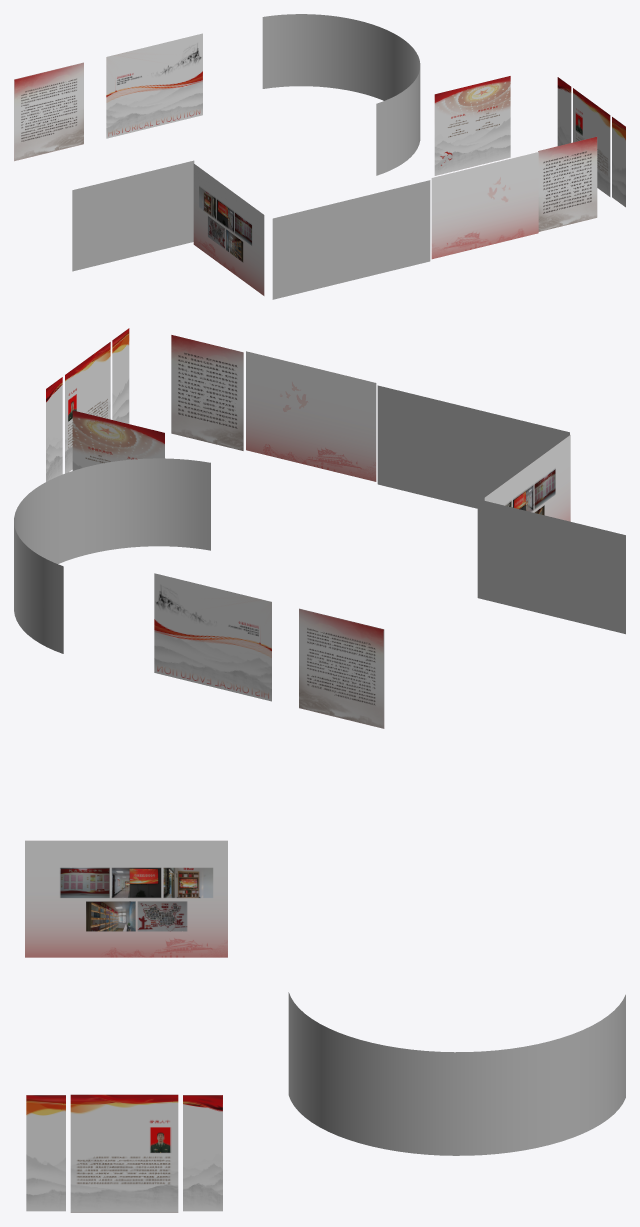
3 renders of one model, top to bottom at view 1: azimuth 30°, elevation 25°; view 2: azimuth 150°, elevation 25°; view 3: azimuth 270°, elevation 25°, orthographic. The views are drawn at different scales.
Parts seen in each view (by area): view 1: 15中队_发展历程, 15中队_建设成就, 15中队_官兵风采, 15中队_重大任务, 15中队_历史沿革, 15中队_历任主官, 15中队_军营文化, 15中队_前言, 15中队_未来寄语, 15中队_历史荣誉中, 15中队_历史荣誉右, 15中队_历史荣誉左; view 2: 15中队_发展历程, 15中队_官兵风采, 15中队_建设成就, 15中队_重大任务, 15中队_历史沿革, 15中队_前言, 15中队_未来寄语, 15中队_军营文化, 15中队_历任主官, 15中队_历史荣誉中, 15中队_历史荣誉左, 15中队_历史荣誉右; view 3: 15中队_发展历程, 15中队_军营文化, 15中队_历史荣誉中, 15中队_历史荣誉右, 15中队_历史荣誉左.
Part boxes in pixels (x1,y1,x2,y2): 15中队_发展历程: [262, 14, 420, 175]; 15中队_建设成就: [272, 180, 430, 299]; 15中队_官兵风采: [72, 160, 194, 271]; 15中队_重大任务: [431, 152, 538, 259]; 15中队_历史沿革: [106, 33, 202, 138]; 15中队_历任主官: [434, 76, 510, 175]; 15中队_军营文化: [193, 163, 264, 295]; 15中队_前言: [14, 62, 83, 161]; 15中队_未来寄语: [538, 136, 597, 231]; 15中队_历史荣誉中: [573, 88, 610, 196]; 15中队_历史荣誉右: [612, 117, 625, 207]; 15中队_历史荣誉左: [557, 77, 571, 145]; 15中队_发展历程: [14, 458, 210, 653]; 15中队_官兵风采: [477, 499, 625, 634]; 15中队_建设成就: [377, 385, 569, 508]; 15中队_重大任务: [246, 351, 376, 481]; 15中队_历史沿革: [154, 573, 271, 701]; 15中队_前言: [299, 608, 384, 728]; 15中队_未来寄语: [171, 335, 243, 450]; 15中队_军营文化: [484, 435, 570, 521]; 15中队_历任主官: [72, 410, 164, 470]; 15中队_历史荣誉中: [65, 342, 110, 473]; 15中队_历史荣誉左: [46, 377, 62, 481]; 15中队_历史荣誉右: [112, 328, 129, 423]; 15中队_发展历程: [288, 992, 625, 1155]; 15中队_军营文化: [25, 840, 227, 957]; 15中队_历史荣誉中: [70, 1094, 178, 1212]; 15中队_历史荣誉右: [26, 1095, 65, 1211]; 15中队_历史荣誉左: [183, 1095, 222, 1211].
Bounding box in the file's own units: 1029 × 170 × 789.
